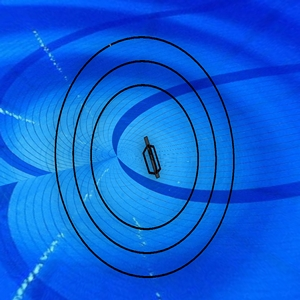circle: (53, 34, 241, 282)
submarine: (137, 134, 168, 183)
